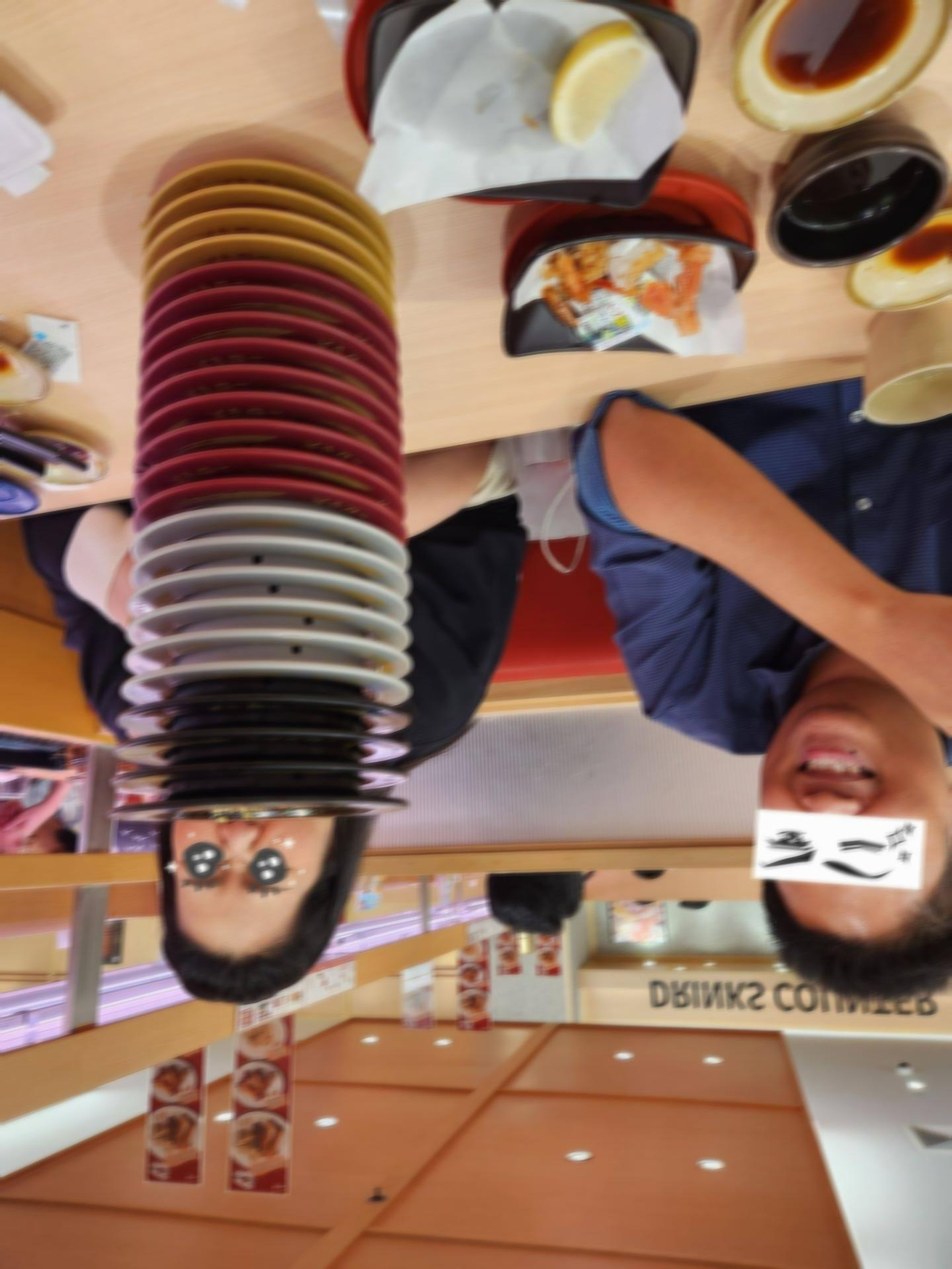Janback: (123, 699, 417, 734), (121, 734, 413, 761), (116, 796, 416, 820), (121, 764, 416, 788)
Jangold: (163, 237, 357, 264), (163, 187, 341, 207), (176, 157, 322, 180), (160, 214, 336, 228)
Janred: (138, 481, 402, 502), (160, 423, 369, 445), (144, 455, 373, 475), (160, 394, 354, 414), (178, 312, 351, 331), (181, 344, 357, 359), (167, 366, 342, 381), (193, 287, 328, 305), (176, 268, 337, 283)
Janwhite: (138, 649, 398, 676), (151, 619, 376, 644), (178, 537, 377, 558), (160, 590, 363, 609), (176, 513, 361, 532), (166, 563, 359, 581)
